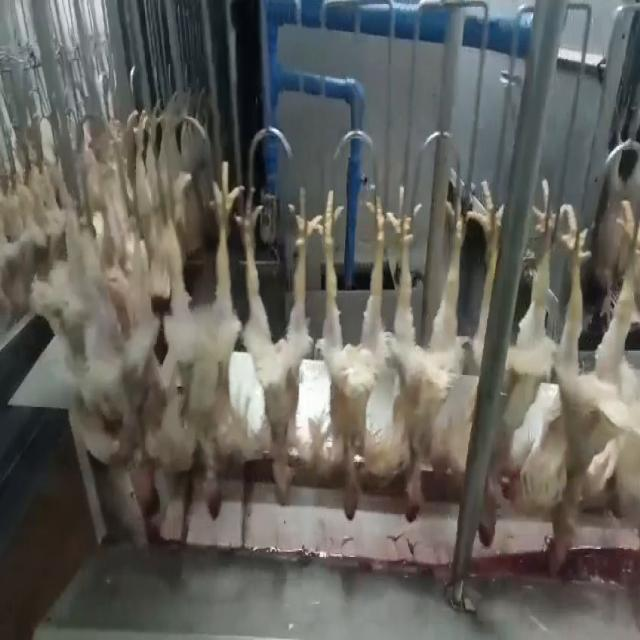chicken: (538, 196, 639, 580), (476, 179, 577, 551), (150, 151, 243, 526), (388, 186, 477, 525), (100, 163, 180, 516), (309, 184, 390, 523), (241, 178, 323, 508)
